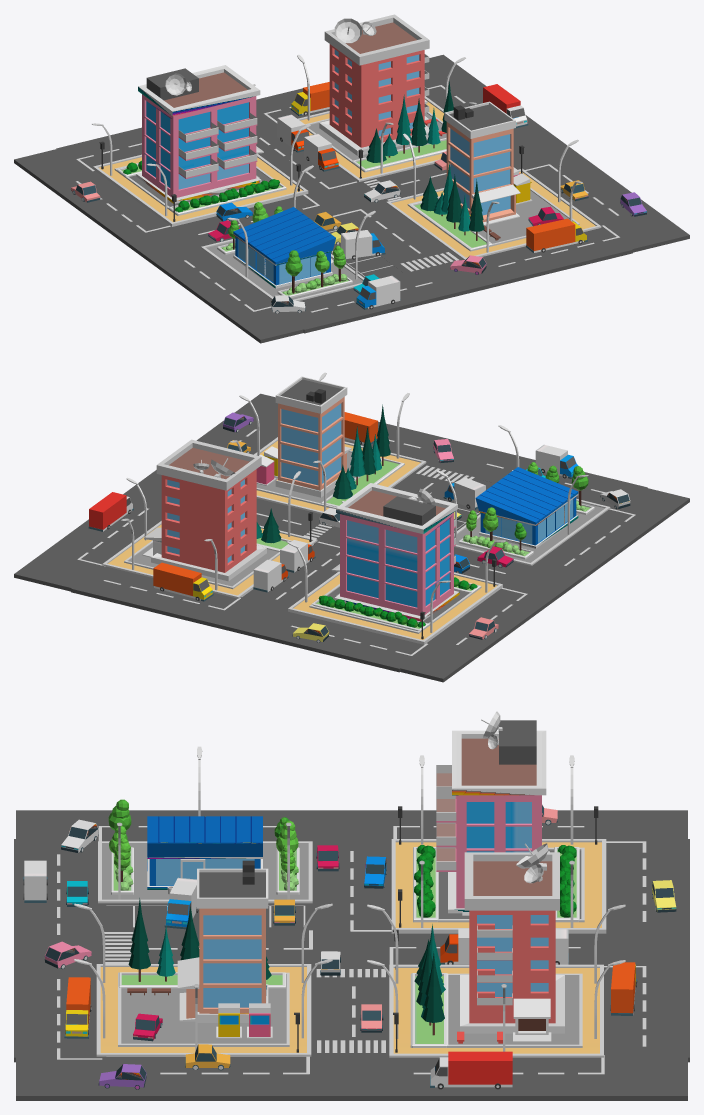
The model's file is city.obj.
The picture shows the model from 3 angles, top to bottom: view 1: azimuth 30°, elevation 25°; view 2: azimuth 150°, elevation 25°; view 3: azimuth 270°, elevation 25°; orthographic projection. The views are drawn at different scales.
Visible parts, largest first — view 1: ROAD, House, House_1, House_2, Shop, Floor, Floor_2, ROAD.Lines.12, Floor.4_3, Floor.4_2, Car_08.5, Floor_1 (+15 smaller); view 2: ROAD, House, House_1, House_2, Shop, Floor, ROAD.Lines.12, Floor.4_3, Floor_1, Car_08.3, Floor_2, Car_08.4 (+12 smaller); view 3: ROAD, House_1, House, House_2, Shop, Floor_2, Floor_1, Floor.4_2, Floor, ROAD.Lines.12, Floor.4_3, Floor.4_1 (+29 smaller).
Boxes of the visible parts, x1,y1,x2,y2 form: ROAD: (14, 54, 689, 343); House: (136, 65, 263, 203); House_1: (319, 14, 429, 155); House_2: (444, 101, 520, 225); Shop: (233, 207, 335, 288); Floor: (93, 153, 308, 226); Floor_2: (386, 168, 601, 259); ROAD.Lines.12: (76, 85, 619, 312); Floor.4_3: (201, 239, 364, 301); Floor.4_2: (407, 187, 579, 251); Car_08.5: (526, 218, 587, 252); Floor_1: (297, 96, 443, 181); ROAD: (14, 393, 689, 682); House: (331, 483, 459, 621); House_1: (142, 439, 266, 581); House_2: (275, 376, 351, 497); Shop: (475, 467, 578, 548); Floor: (288, 571, 502, 644); ROAD.Lines.12: (77, 429, 635, 655); Floor.4_3: (454, 498, 610, 565); Floor_1: (102, 521, 317, 598); Car_08.3: (153, 562, 213, 601); Floor_2: (254, 437, 426, 513); Car_08.4: (88, 492, 133, 531); ROAD: (14, 810, 689, 1100); House_1: (460, 852, 564, 1042); House: (436, 720, 549, 915); House_2: (177, 860, 268, 1022); Shop: (147, 816, 262, 889); Floor_2: (96, 964, 311, 1056); Floor_1: (389, 964, 603, 1057); Floor.4_2: (118, 972, 289, 1046); Floor: (391, 839, 606, 933); ROAD.Lines.12: (57, 826, 646, 1074); Floor.4_3: (98, 841, 312, 903); Floor.4_1: (411, 973, 582, 1047).
Bounding box in the file's own units: 2192 × 609 × 2192.
1 material, 1 textured.
